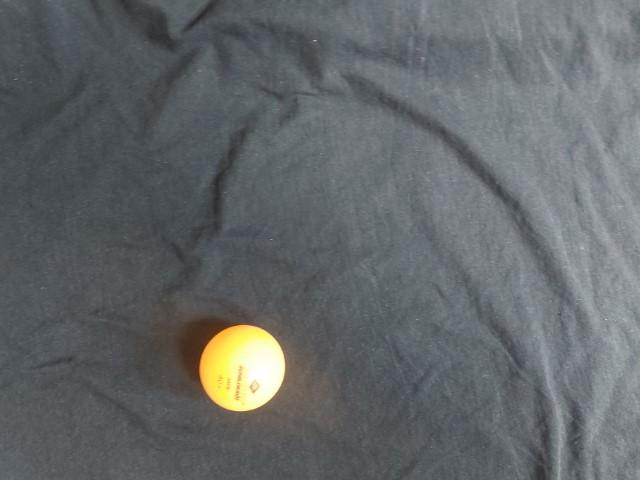oball: (349, 63, 446, 161)
